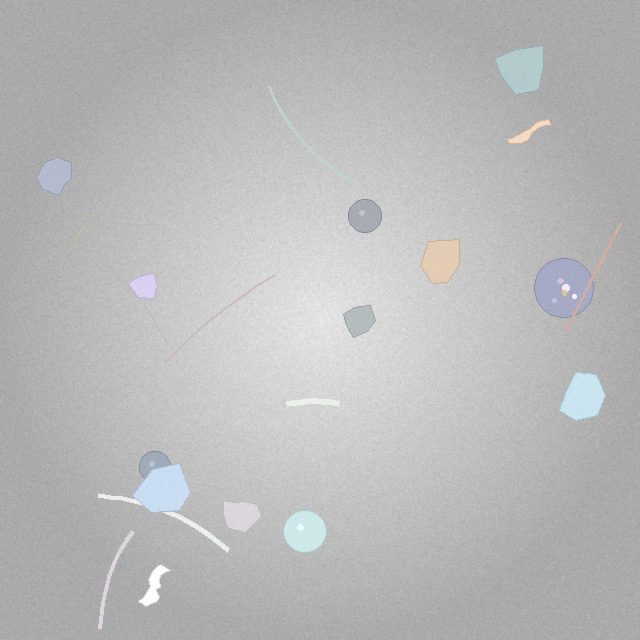fiber: (162, 272, 278, 367), (266, 83, 366, 189), (94, 491, 233, 555), (563, 221, 624, 335), (97, 260, 168, 344), (95, 527, 137, 633), (72, 202, 105, 250), (281, 396, 346, 411)
film: (138, 565, 171, 606), (507, 119, 552, 143)
foam: (534, 259, 593, 318)
fragment: (133, 464, 190, 513), (495, 45, 543, 95), (560, 373, 606, 420), (420, 240, 460, 283), (37, 157, 72, 195), (223, 501, 262, 533), (344, 305, 376, 337), (129, 273, 158, 298)
pellet: (284, 510, 326, 553), (348, 199, 382, 233), (140, 451, 171, 483)
